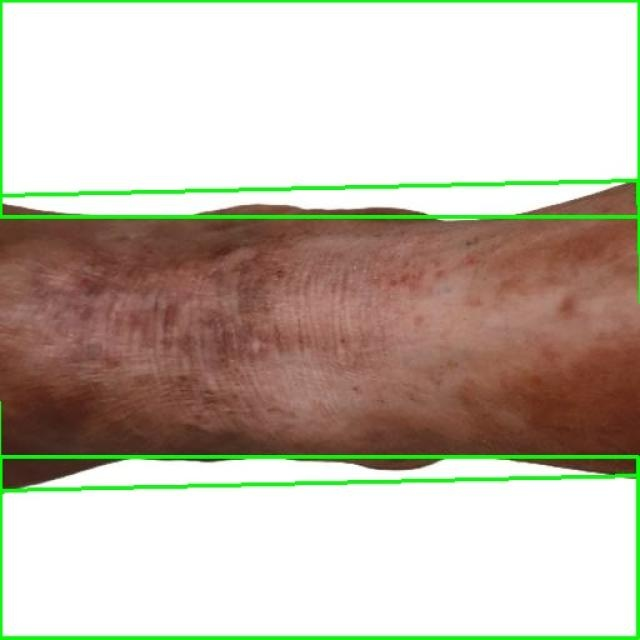Eczema: (0, 181, 640, 490), (0, 0, 639, 218), (0, 458, 639, 639)
